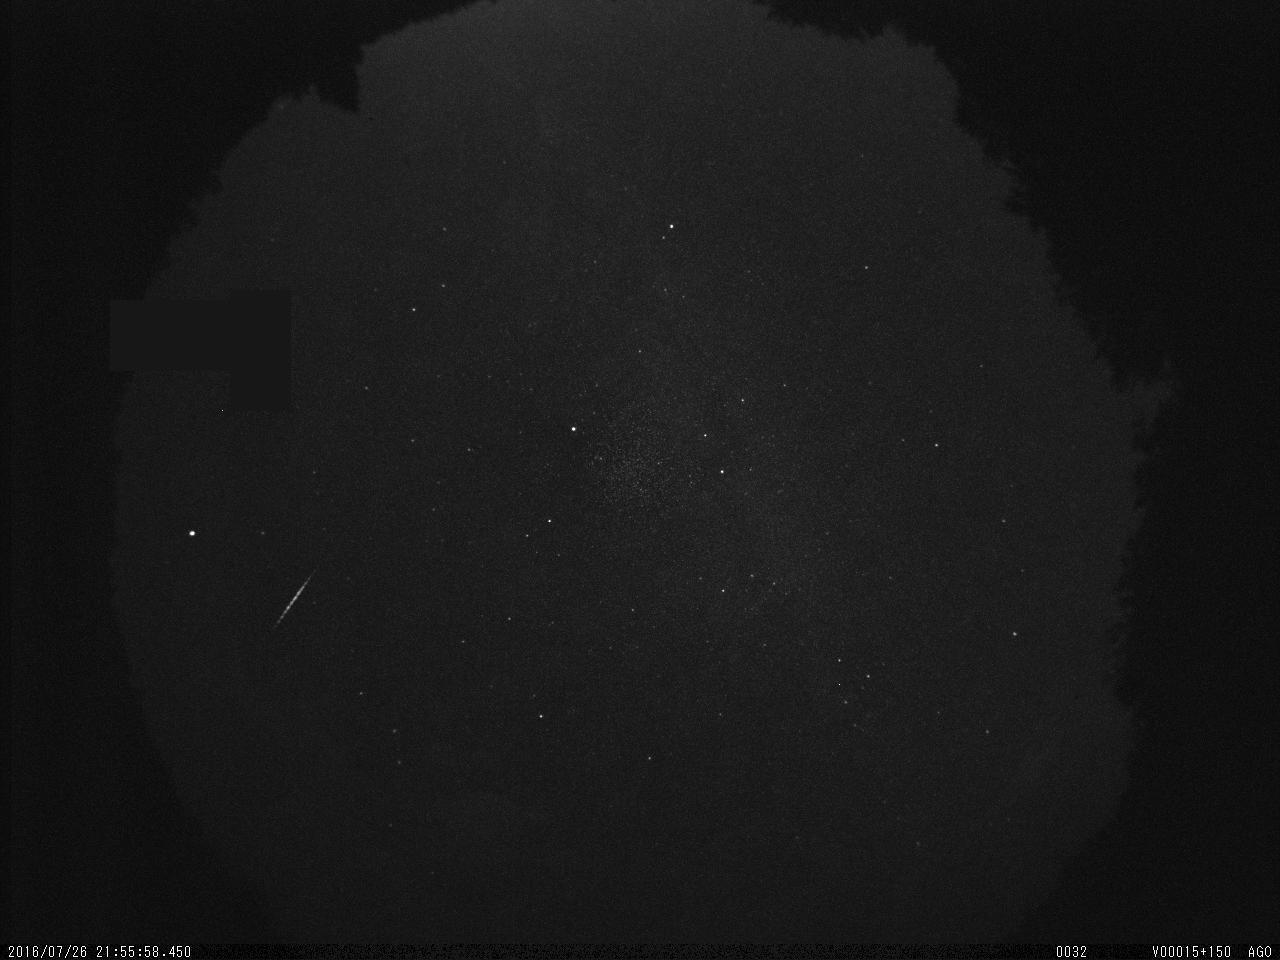meteor: (262, 549, 330, 652)
